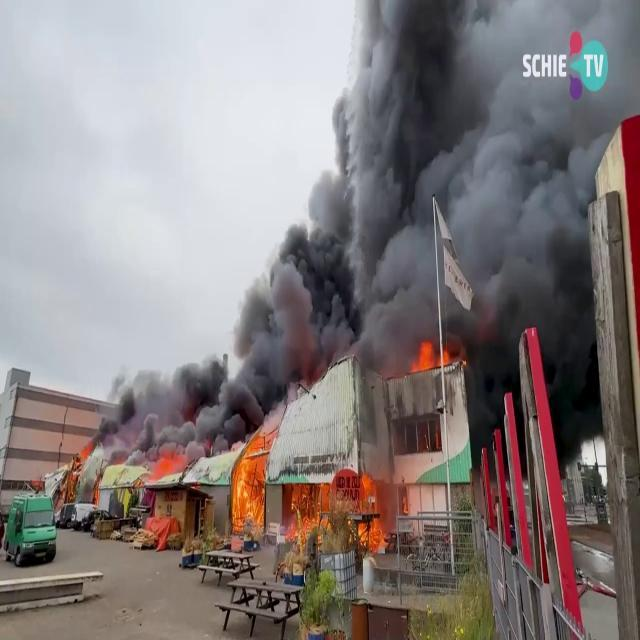Fire: (220, 422, 274, 532)
Smoke: (90, 0, 628, 424), (88, 358, 196, 456)
